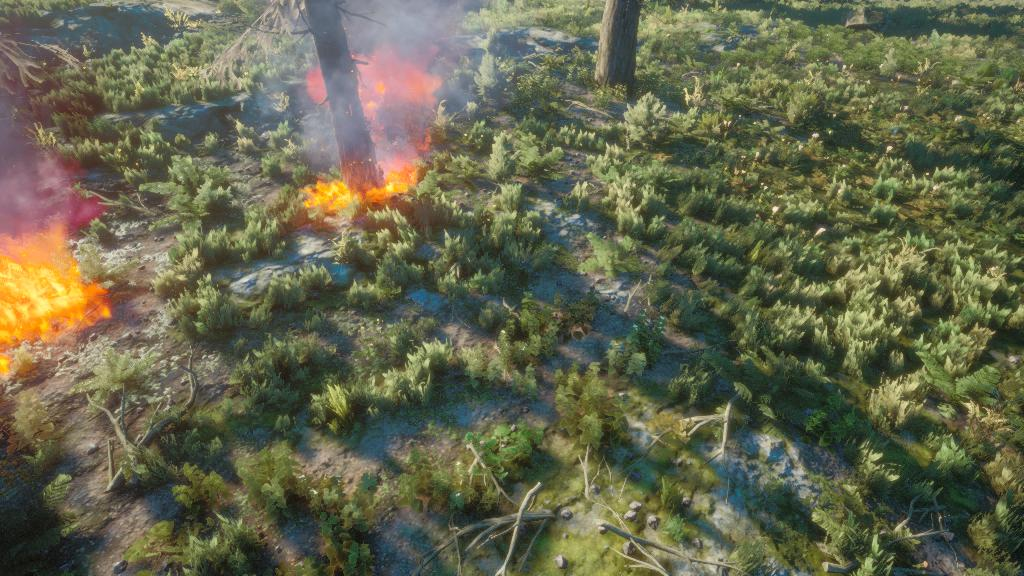Fire: (0, 184, 119, 386), (310, 47, 440, 128), (296, 147, 428, 226)
smoke: (309, 0, 465, 180), (0, 75, 89, 252)
